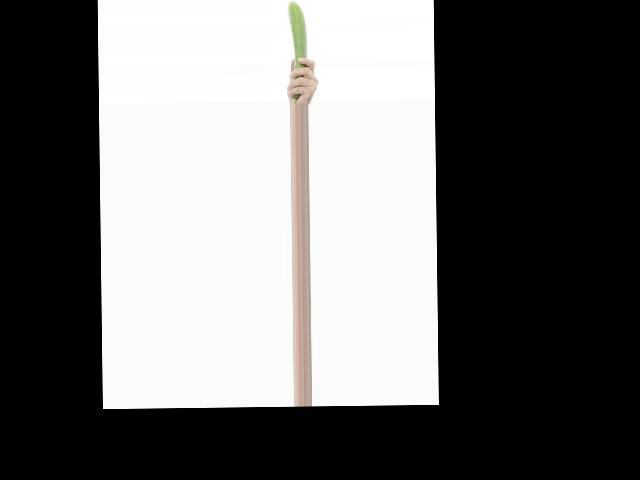cucumber: (287, 0, 307, 103)
